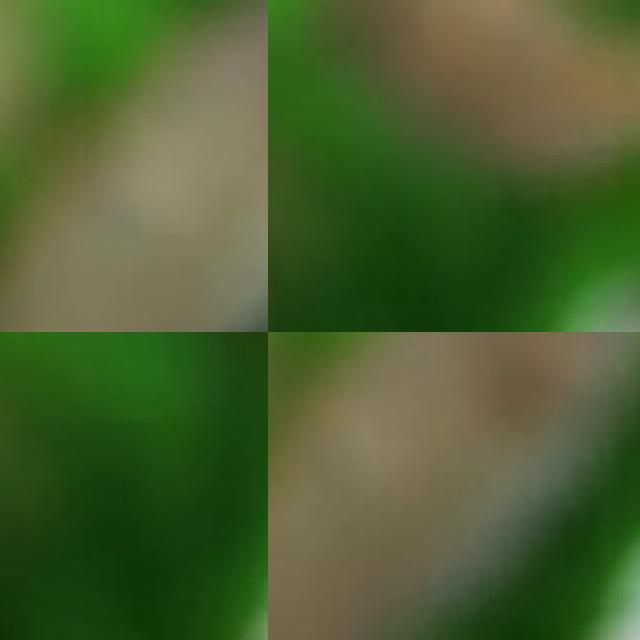fish: (268, 332, 640, 640), (274, 0, 640, 265), (0, 0, 268, 332)
